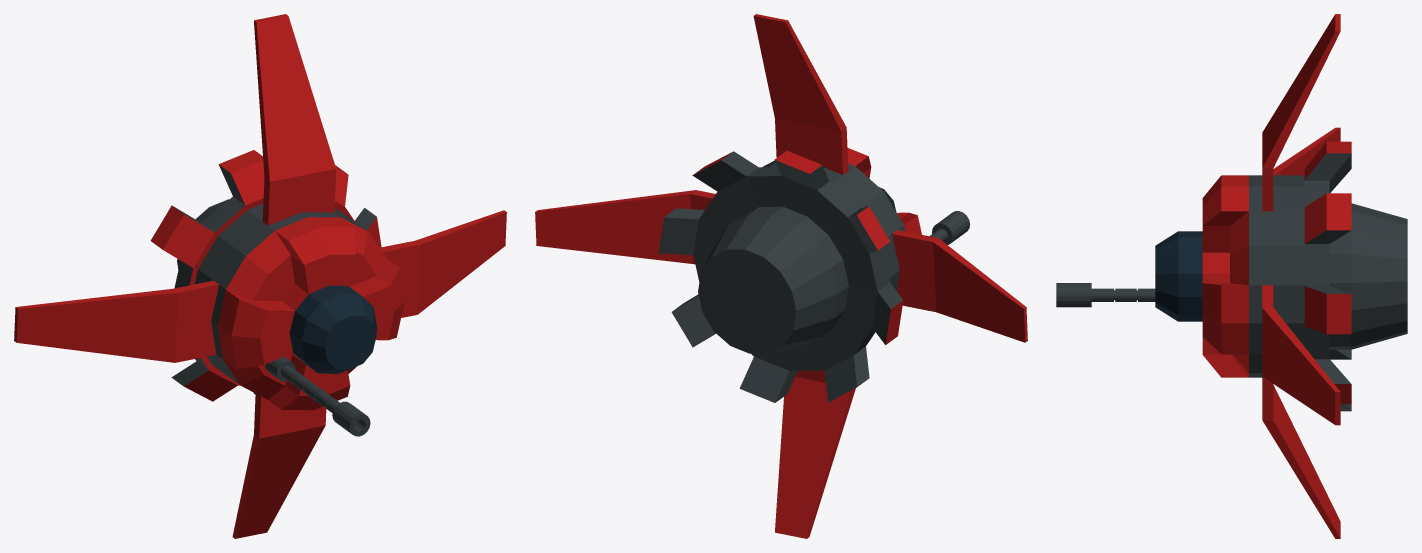
The model's file is SpaceShip.fbx.
3 views of the same model, side by side, from view 1: azimuth 30°, elevation 25°; view 2: azimuth 150°, elevation 25°; view 3: azimuth 270°, elevation 25° (orthographic).
Visible parts, largest first — view 1: SpaceShip_1.001; view 2: SpaceShip_1.001; view 3: SpaceShip_1.001.
Boxes of the visible parts, box(x1,y1,x2,y2) form: SpaceShip_1.001: box(14, 14, 506, 538); SpaceShip_1.001: box(535, 14, 1027, 538); SpaceShip_1.001: box(1056, 14, 1407, 538).
Size of the model in its own units: 3.79 by 3.79 by 2.32.
